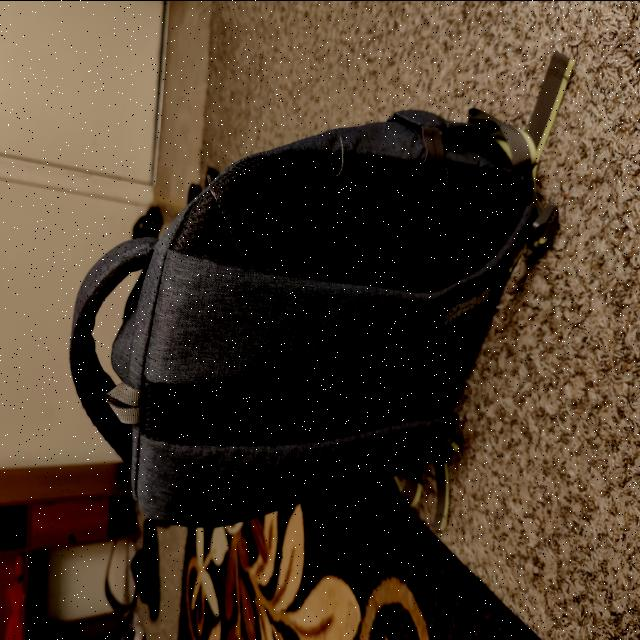bag: (74, 222, 504, 500)
